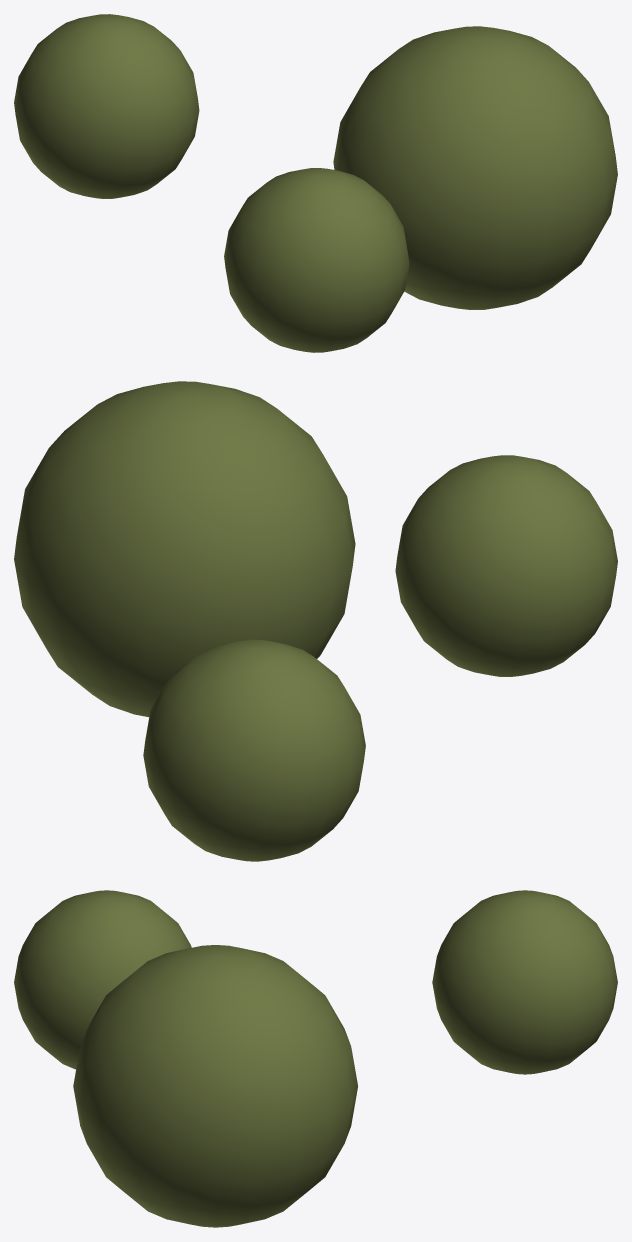
The model's file is Trees_Setof3.fbx.
3 views of the same model, one above another, from view 1: azimuth 30°, elevation 25°; view 2: azimuth 150°, elevation 25°; view 3: azimuth 270°, elevation 25° (orthographic). The views are drawn at different scales.
Parts seen in each view (by area): view 1: pSphere7; view 2: pSphere7; view 3: pSphere7.
Boxes of the visible parts, box(x1,y1,x2,y2) form: pSphere7: box(14, 14, 617, 352); pSphere7: box(14, 381, 617, 861); pSphere7: box(14, 890, 617, 1227).
Bounding box in the file's own units: 1.76 × 1.04 × 2.21.
